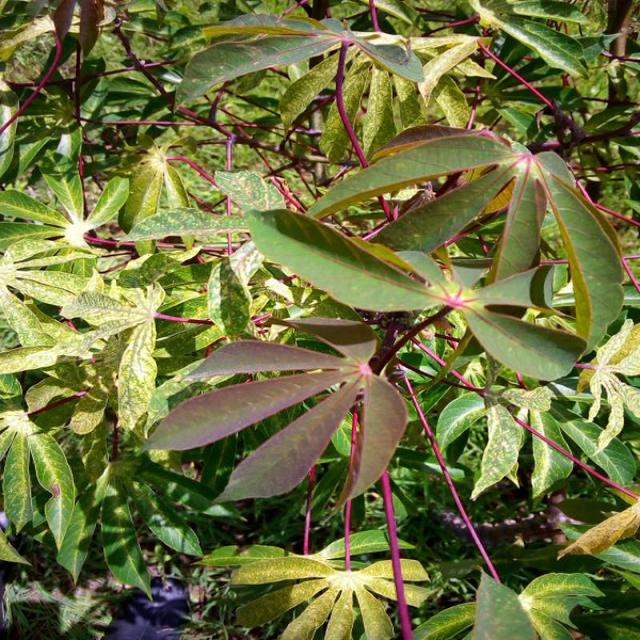cassava leaf: (138, 314, 408, 508), (245, 205, 449, 312)
